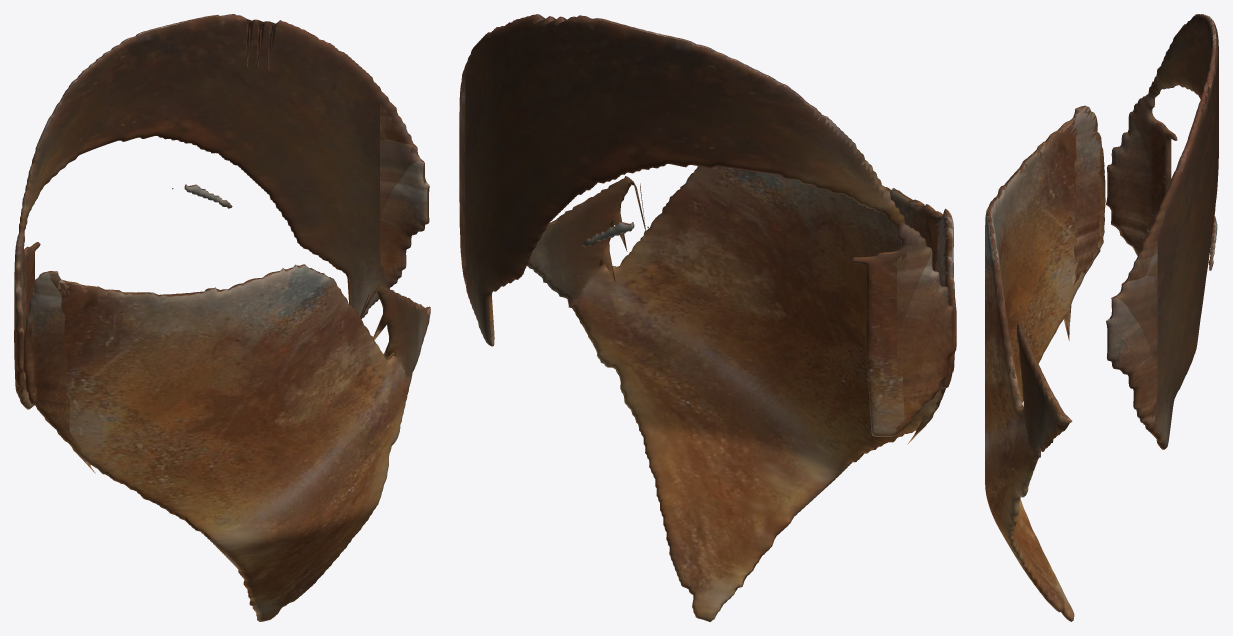
File: escultura-esc-033.glb
The picture shows the model from 3 angles, left to right: view 1: azimuth 30°, elevation 25°; view 2: azimuth 150°, elevation 25°; view 3: azimuth 270°, elevation 25°; orthographic projection. The views are drawn at different scales.
Visible parts, largest first — view 1: world; view 2: world; view 3: world.
Boxes of the visible parts, left/top/right/bottom form: world: left=14, top=14, right=430, bottom=621; world: left=459, top=14, right=956, bottom=621; world: left=985, top=14, right=1218, bottom=621.
Size of the model in its own units: 0.279 by 0.3586 by 0.1343.
Materials: 1 (1 with a texture image).
